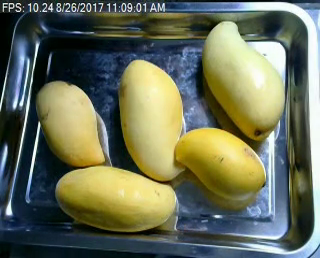Mango: (203, 18, 289, 143), (112, 55, 191, 181), (51, 164, 179, 232), (168, 127, 268, 200), (37, 78, 105, 168)
